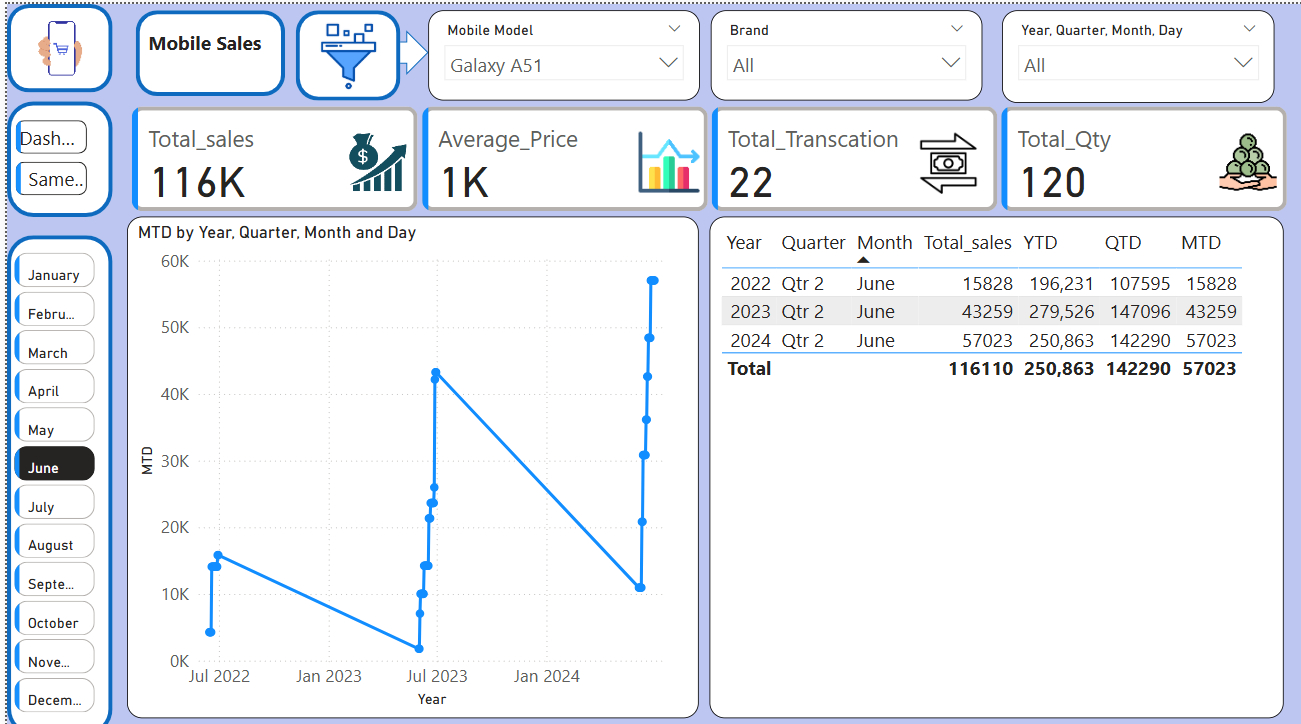

The dashboard page shown, as its layout file describes it:
{"tool":"powerbi","page":{"name":"MTD Page","canvas":[1280,720],"ordinal":1},"visuals":[{"type":"shape","box":[360.9,25.4,53.2,44],"z":0},{"type":"shape","box":[284.5,5.8,102.9,89.1],"z":1000},{"type":"image","box":[267.2,13.9,138.8,76.3],"z":2000},{"type":"shape","box":[0,0,103.8,86.9],"z":3000},{"type":"image","box":[25.2,0,53.3,86.9],"z":4000},{"type":"shape","box":[0,95.4,103.8,113.6],"z":5000},{"type":"cardVisual","fields":{"Data":["sales_data.madhu_total_sales","sales_data.Average_Price","sales_data.Total_Transcation","sales_data.Total_Qty"]},"box":[117.8,95.4,1147.1,113.6],"z":6000},{"type":"slicer","fields":{"Values":["sales_data.Mobile Model"]},"box":[414.1,5.8,267.2,89.1],"z":7000},{"type":"slicer","fields":{"Values":["sales_data.Brand"]},"box":[691.7,5.8,267.2,89.1],"z":8000},{"type":"slicer","fields":{"Values":["Custom_Calander.Date.Variation.Date Hierarchy.Year","Custom_Calander.Date.Variation.Date Hierarchy.Quarter","Custom_Calander.Date.Variation.Date Hierarchy.Month","Custom_Calander.Date.Variation.Date Hierarchy.Day"]},"box":[978.6,5.8,268.4,91.4],"z":9000},{"type":"shape","box":[126.1,5.8,146.9,84.4],"z":10000},{"type":"textbox","box":[134.2,20.8,130.7,55.5],"z":11000},{"type":"tableEx","fields":{"Values":["Custom_Calander.Date.Variation.Date Hierarchy.Year","Custom_Calander.Date.Variation.Date Hierarchy.Quarter","Custom_Calander.Date.Variation.Date Hierarchy.Month","sales_data.Total_sales","sales_data.YTD","sales_data.QTD","sales_data.MTD"]},"box":[691.4,208.6,565,493.5],"z":12000},{"type":"lineChart","fields":{"Y":["sales_data.MTD"],"Category":["Custom_Calander.Date.Variation.Date Hierarchy.Year","Custom_Calander.Date.Variation.Date Hierarchy.Quarter","Custom_Calander.Date.Variation.Date Hierarchy.Month","Custom_Calander.Date.Variation.Date Hierarchy.Day"]},"box":[118,208.6,562.6,493.5],"z":13000},{"type":"shape","box":[0,227.2,103.8,492.2],"z":14000},{"type":"advancedSlicerVisual","fields":{"Values":["Custom_Calander.Date.Variation.Date Hierarchy.Month"]},"box":[2.8,239.8,89.7,462.8],"z":15000},{"type":"pageNavigator","box":[8.3,114.4,70.3,75.1],"z":15001}]}

Visuals, with their boxes in screenshot pixels (x1, y1, x2, y2), scaled from the page's 1280x720 canvas onto the 1301x724 screenshot:
shape: [x1=367, y1=26, x2=421, y2=70]
shape: [x1=289, y1=6, x2=394, y2=95]
image: [x1=272, y1=14, x2=413, y2=91]
shape: [x1=0, y1=0, x2=106, y2=87]
image: [x1=26, y1=0, x2=80, y2=87]
shape: [x1=0, y1=96, x2=106, y2=210]
cardVisual - sales_data.madhu_total_sales x sales_data.Average_Price: [x1=120, y1=96, x2=1286, y2=210]
slicer - sales_data.Mobile Model: [x1=421, y1=6, x2=692, y2=95]
slicer - sales_data.Brand: [x1=703, y1=6, x2=975, y2=95]
slicer - Custom_Calander.Date.Variation.Date Hierarchy.Year x Custom_Calander.Date.Variation.Date Hierarchy.Quarter: [x1=995, y1=6, x2=1267, y2=98]
shape: [x1=128, y1=6, x2=277, y2=91]
textbox: [x1=136, y1=21, x2=269, y2=77]
tableEx - Custom_Calander.Date.Variation.Date Hierarchy.Year x Custom_Calander.Date.Variation.Date Hierarchy.Quarter: [x1=703, y1=210, x2=1277, y2=706]
lineChart - sales_data.MTD x Custom_Calander.Date.Variation.Date Hierarchy.Year: [x1=120, y1=210, x2=692, y2=706]
shape: [x1=0, y1=228, x2=106, y2=723]
advancedSlicerVisual - Custom_Calander.Date.Variation.Date Hierarchy.Month: [x1=3, y1=241, x2=94, y2=707]
pageNavigator: [x1=8, y1=115, x2=80, y2=191]
